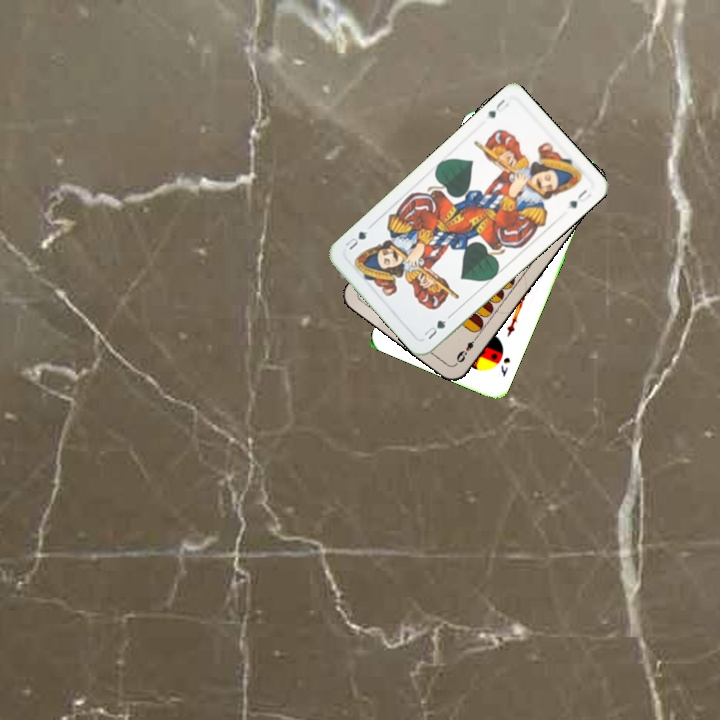E9: (452, 332, 481, 365)
GU: (420, 316, 449, 342), (483, 95, 512, 121)
SK: (497, 353, 513, 379)
